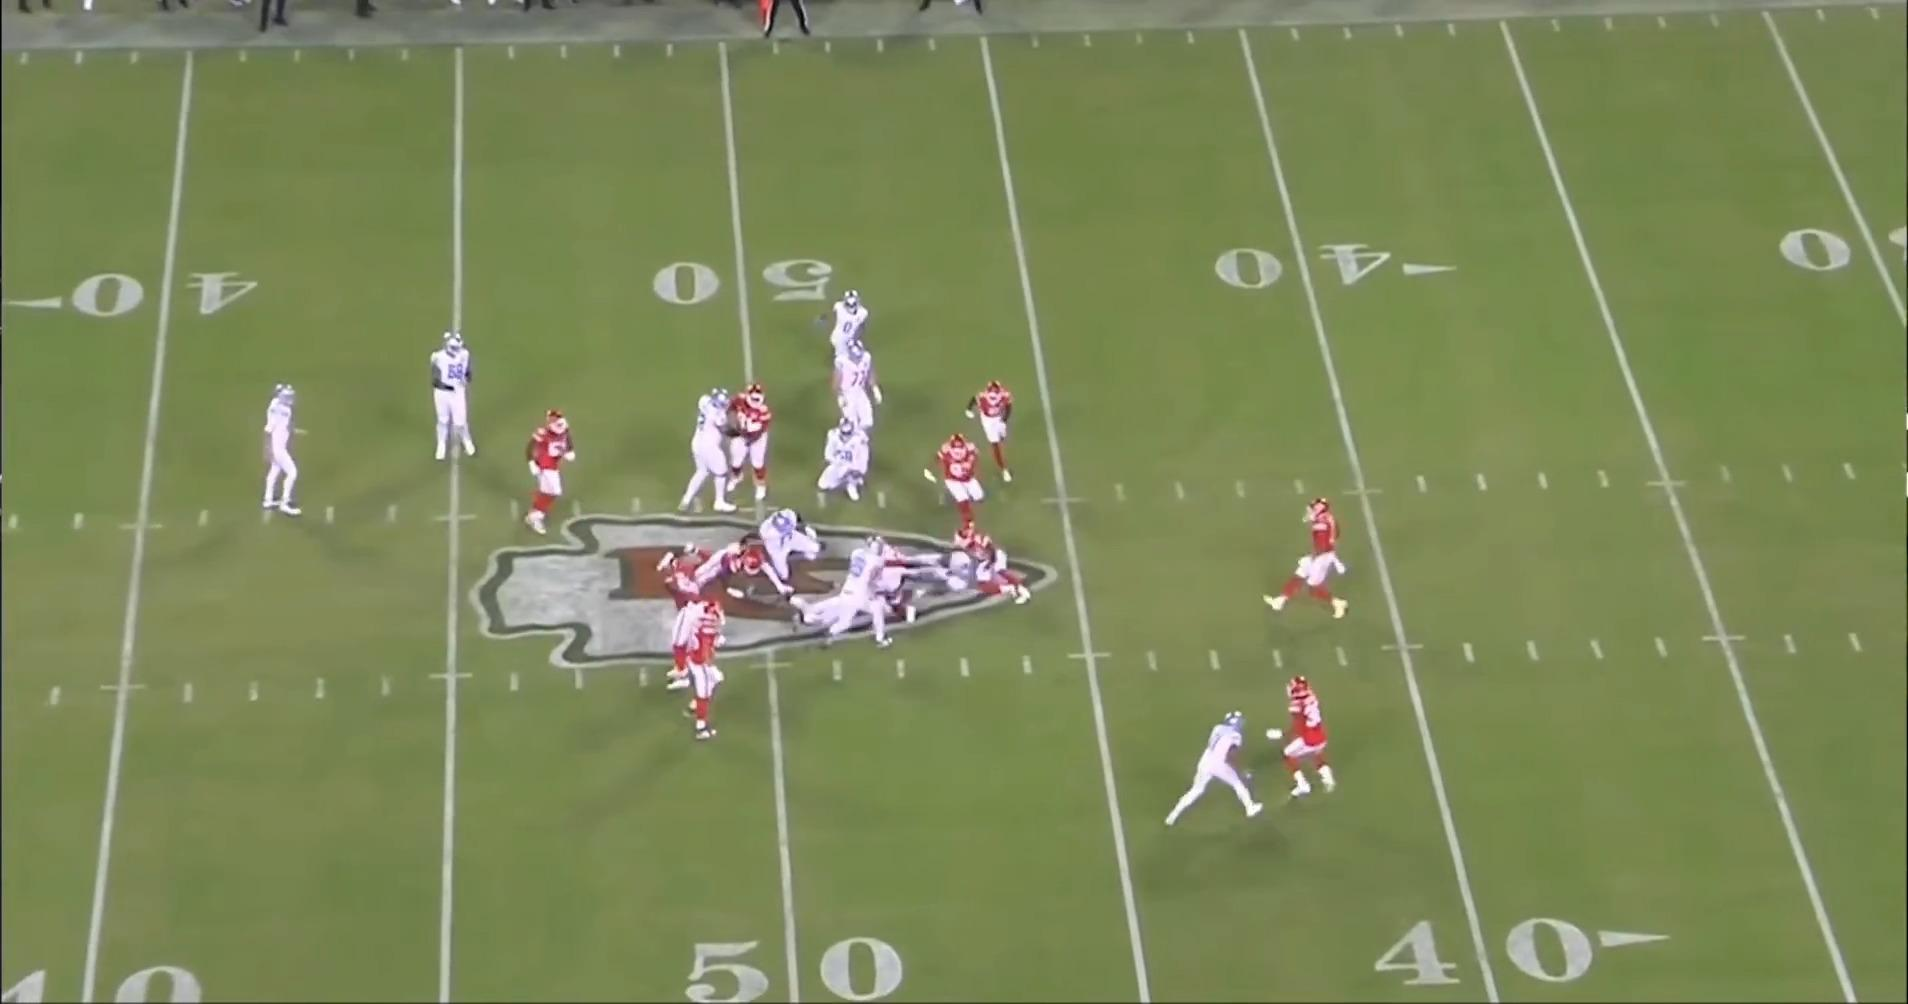player: (1163, 707, 1270, 834), (1269, 497, 1355, 627), (829, 539, 908, 655), (676, 383, 743, 519), (675, 600, 738, 744), (423, 330, 486, 469), (653, 539, 794, 600), (1271, 673, 1334, 797), (517, 404, 577, 534), (753, 507, 821, 621), (264, 383, 315, 530), (730, 385, 784, 508), (827, 345, 893, 444), (948, 524, 1027, 605), (968, 380, 1023, 491), (931, 432, 984, 547), (813, 414, 873, 509), (659, 560, 701, 692), (828, 287, 879, 368), (910, 547, 973, 598)
ref: (758, 0, 822, 41)
